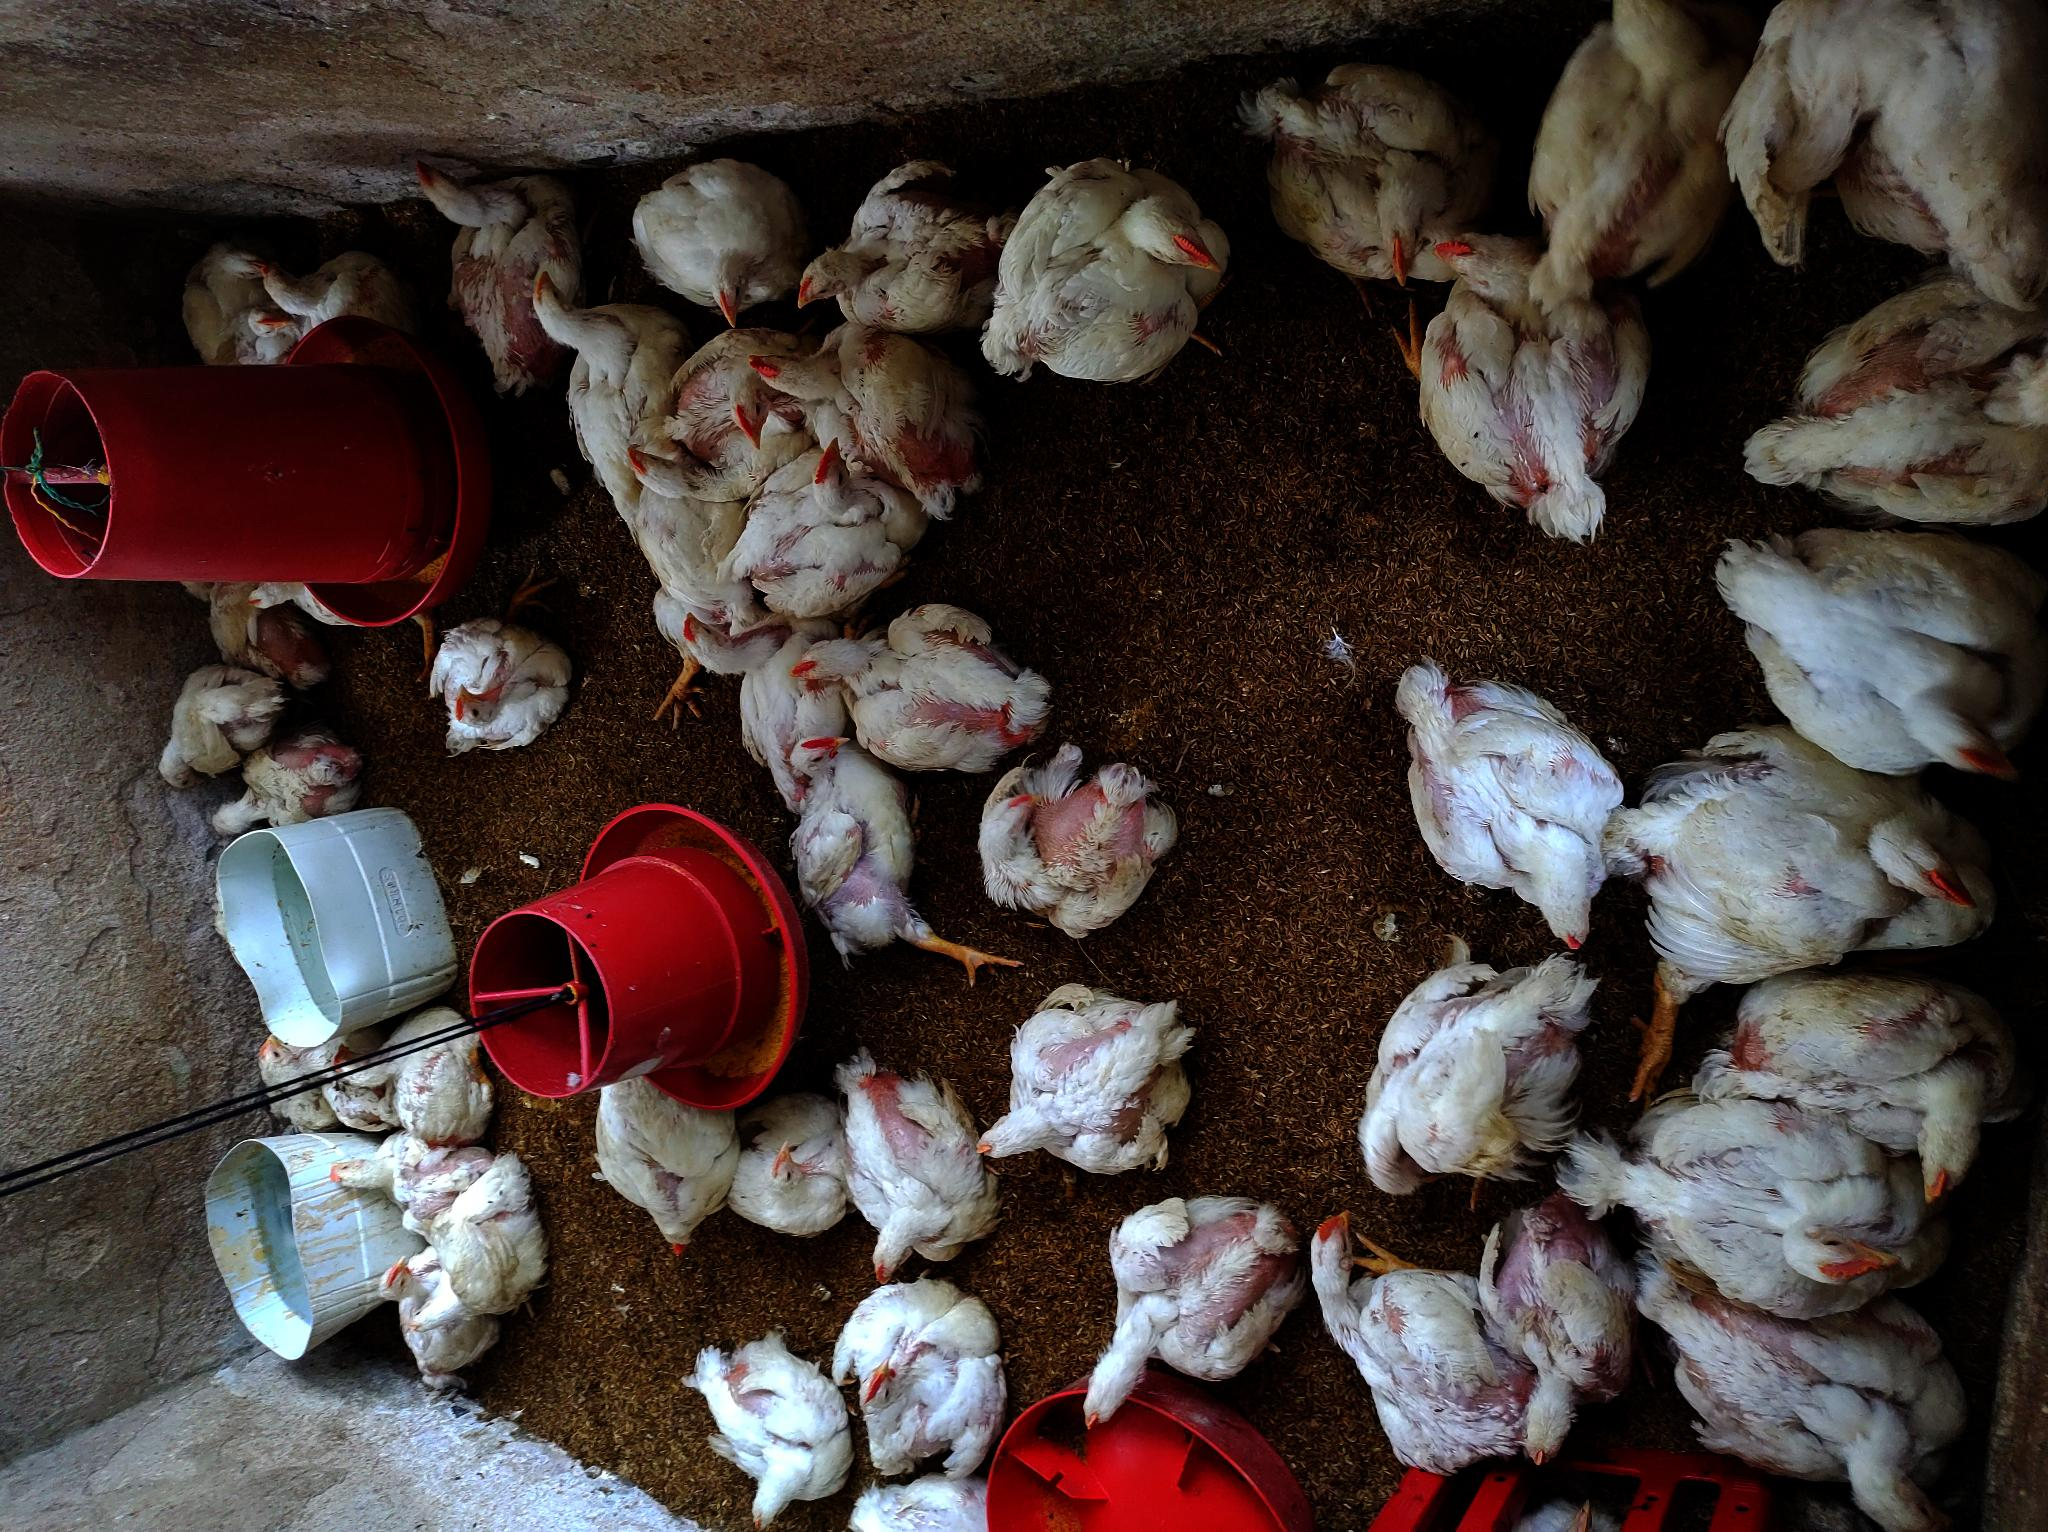Pollos: (1589, 731, 2013, 983), (1646, 1225, 1980, 1532), (1697, 505, 2048, 782), (1665, 949, 2035, 1205), (1717, 0, 2048, 282), (1594, 1075, 1968, 1324), (1403, 203, 1660, 546), (1723, 261, 2048, 517), (1374, 632, 1618, 949), (1297, 1189, 1552, 1485), (1342, 937, 1609, 1209), (968, 150, 1239, 391), (1519, 0, 1733, 304), (1062, 1178, 1313, 1426), (1469, 1178, 1651, 1477), (1253, 60, 1491, 286), (962, 978, 1202, 1188), (755, 323, 997, 526), (605, 447, 779, 710), (409, 143, 587, 383), (964, 753, 1182, 948), (779, 605, 1051, 761), (772, 723, 935, 978), (830, 1040, 1002, 1281), (822, 1270, 1014, 1485), (520, 254, 677, 492), (787, 158, 985, 340), (677, 1332, 854, 1530), (666, 592, 846, 785), (722, 434, 919, 605), (576, 1077, 742, 1262), (631, 154, 801, 328), (402, 1146, 533, 1361), (647, 303, 816, 455), (413, 620, 573, 763), (327, 1015, 499, 1141), (729, 1088, 866, 1238), (338, 1106, 499, 1229), (370, 1255, 500, 1390), (174, 246, 307, 375), (195, 742, 372, 837), (143, 665, 277, 780), (248, 246, 402, 332), (228, 1040, 354, 1126)
